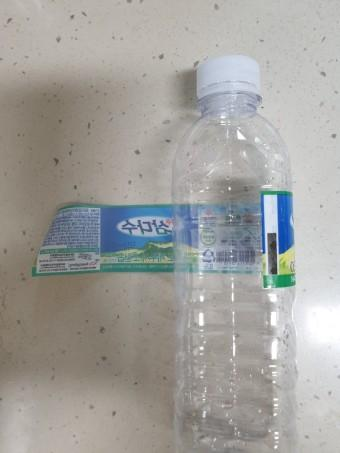bottle: (173, 56, 303, 453)
